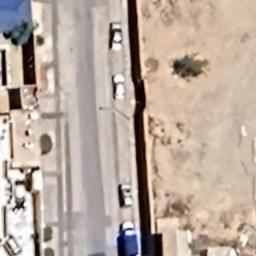sedan: (106, 68, 132, 106), (113, 179, 138, 211), (108, 20, 126, 54)
truck: (116, 219, 140, 254)
